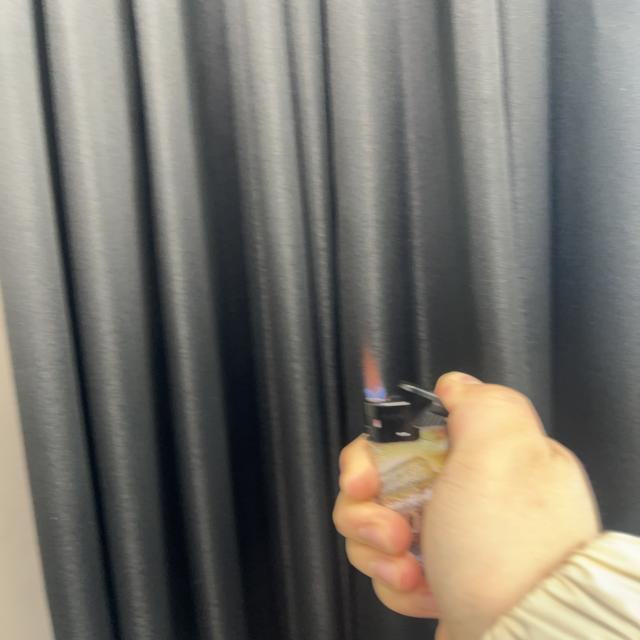fire: (358, 336, 386, 401)
